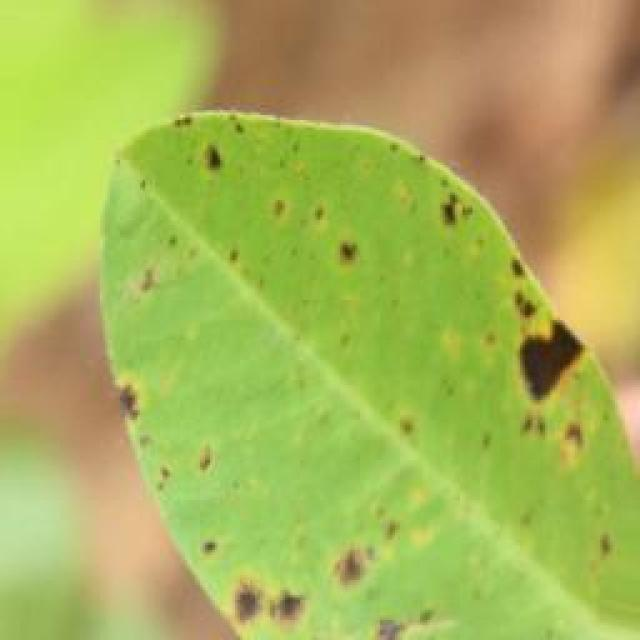Yellowish: (70, 89, 604, 640)
